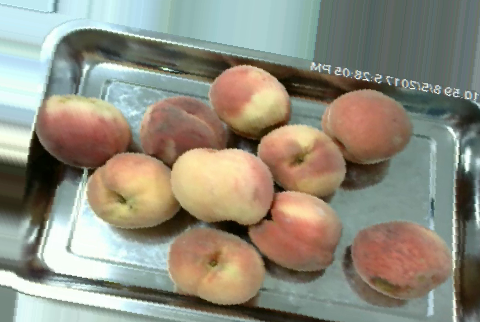Peach: (166, 225, 267, 306), (81, 150, 182, 230), (351, 221, 453, 299), (173, 145, 272, 223), (251, 189, 341, 272), (323, 85, 411, 167), (33, 95, 130, 166), (258, 122, 345, 200), (209, 64, 292, 139), (138, 93, 223, 162)
